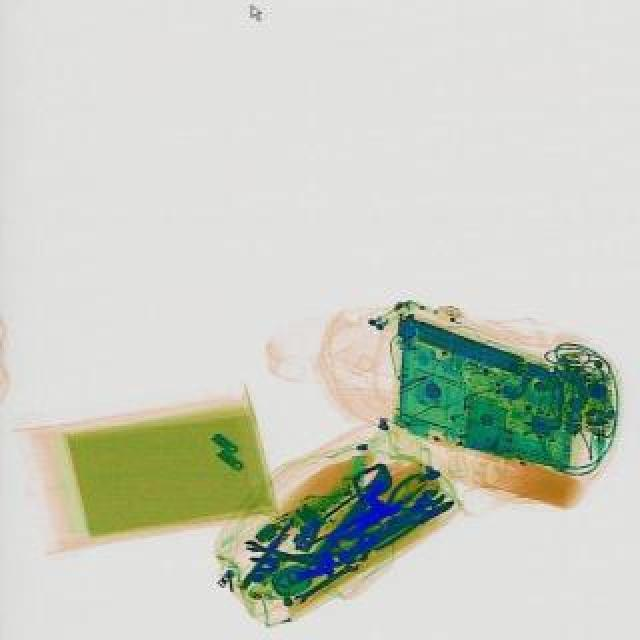scissors: (290, 556, 360, 608), (242, 538, 326, 570)
wrench: (352, 470, 440, 536)
